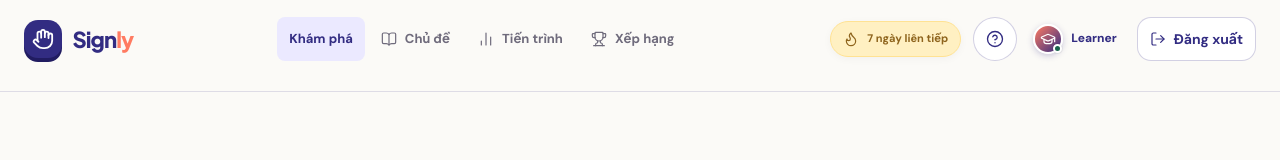
Test case: prevents duplicate logout clicks and announces its pending state
Later steps or results of the test are not shown.
Click the button "Đăng xuất".
click(1196, 39)  # box [1137,17,1256,61]
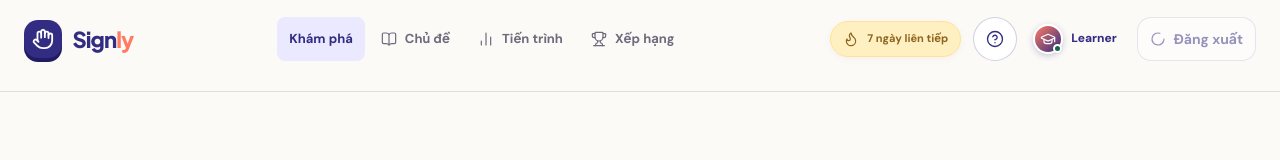
Click the button "Đăng xuất".
click(1196, 39)  # box [1137,17,1256,61]
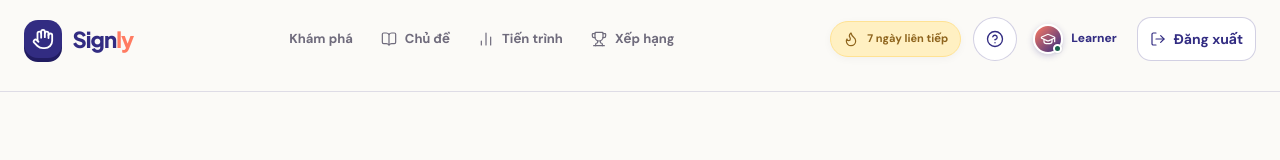
Expected: the button "Đăng xuất" has attribute aria-busy="false", [1137,17,1256,61]
